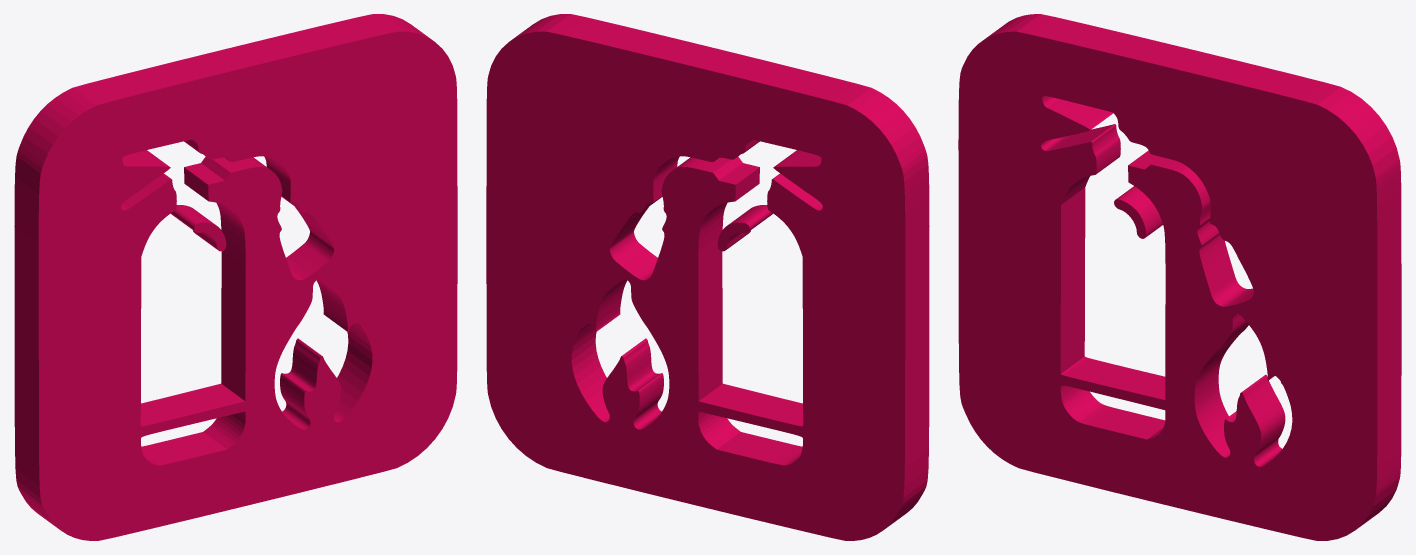
Rendered from FrExt.glb.
3 views of the same model, side by side, from view 1: azimuth 30°, elevation 25°; view 2: azimuth 150°, elevation 25°; view 3: azimuth 330°, elevation 25° (orthographic).
Parts seen in each view (by area): view 1: Mesh_Mesh_head_geo.001_lambert2SG.001; view 2: Mesh_Mesh_head_geo.001_lambert2SG.001; view 3: Mesh_Mesh_head_geo.001_lambert2SG.001.
Boxes of the visible parts, <box> form: Mesh_Mesh_head_geo.001_lambert2SG.001: <box>14,14,457,540</box>; Mesh_Mesh_head_geo.001_lambert2SG.001: <box>486,14,929,540</box>; Mesh_Mesh_head_geo.001_lambert2SG.001: <box>958,14,1401,540</box>.
Size of the model in its own units: 10 by 10 by 1.
